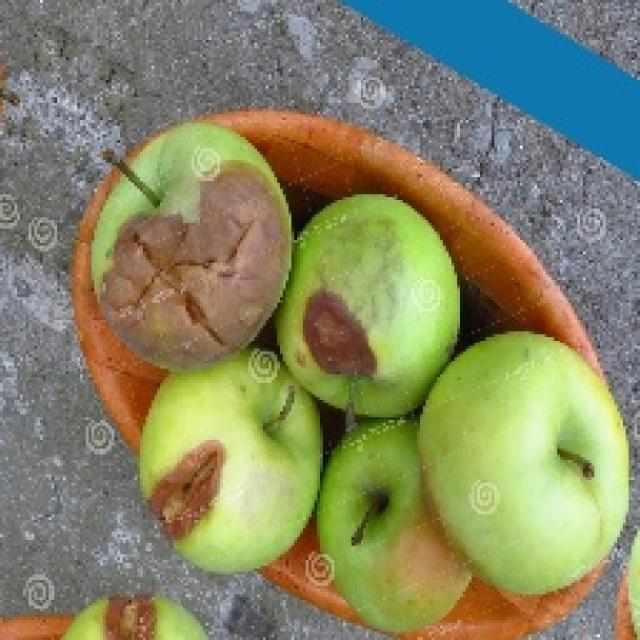50-_ripeness: (419, 331, 630, 588), (320, 418, 470, 633)
rotten_apple: (96, 128, 289, 362), (141, 363, 317, 573), (294, 199, 446, 407)
